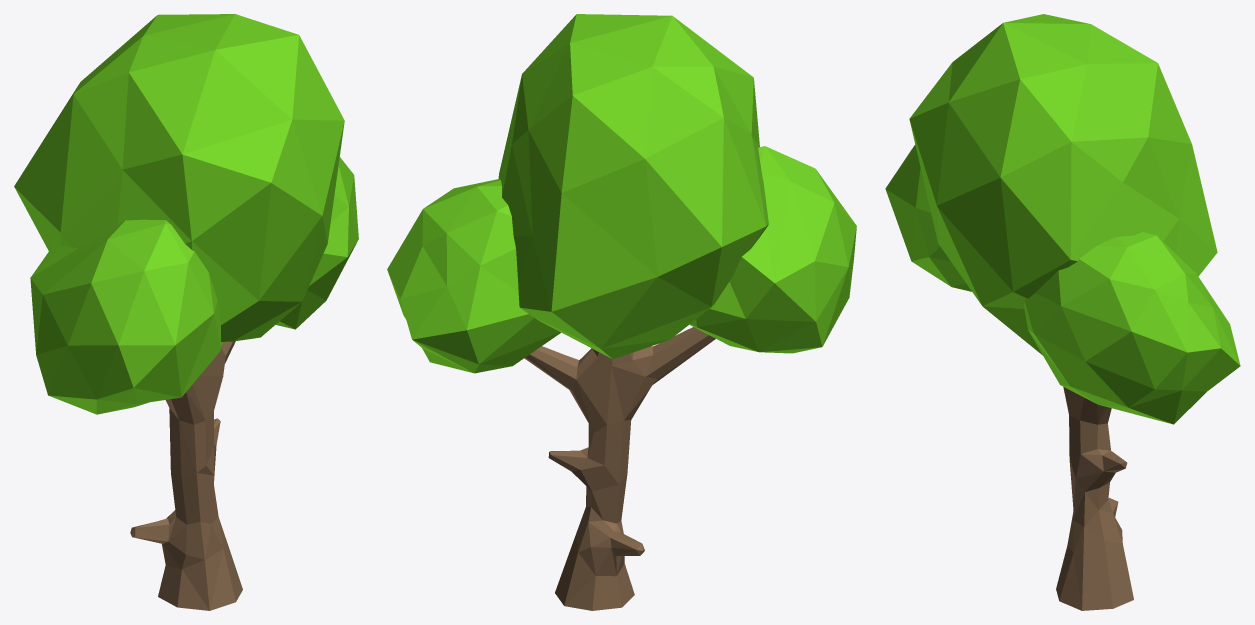
File: Tree_10.fbx
3 renders of one model, left to right at view 1: azimuth 30°, elevation 25°; view 2: azimuth 150°, elevation 25°; view 3: azimuth 270°, elevation 25°, orthographic. The views are drawn at different scales.
Visible parts, largest first — view 1: Tree_10; view 2: Tree_10; view 3: Tree_10.
Boxes of the visible parts, x1,y1,x2,y2 form: Tree_10: [14, 14, 358, 610]; Tree_10: [387, 14, 856, 610]; Tree_10: [885, 14, 1240, 610].
Size of the model in its own units: 342 by 514 by 297.
